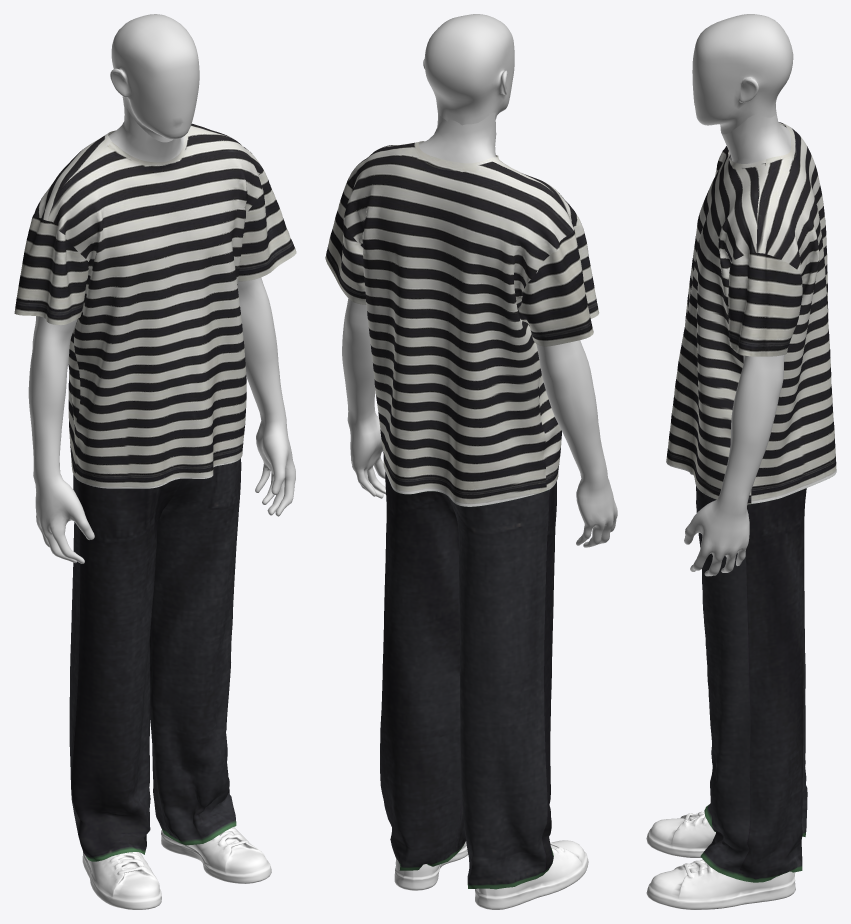
Rendered from zara_t_shirt.glb.
The picture shows the model from 3 angles, left to right: view 1: azimuth 30°, elevation 25°; view 2: azimuth 150°, elevation 25°; view 3: azimuth 270°, elevation 25°; orthographic projection. The views are drawn at different scales.
Visible parts, largest first — view 1: tshirt_3, body_3_0, shoes_r_Shape_2, shoes_l_Shape_1; view 2: tshirt_3, body_3_0, shoes_r_Shape_2, shoes_l_Shape_1; view 3: tshirt_3, body_3_0, shoes_l_Shape_1, shoes_r_Shape_2.
Part boxes in pixels (x1,y1,x2,y2): tshirt_3: [14, 123, 296, 861]; body_3_0: [28, 14, 295, 563]; shoes_r_Shape_2: [82, 852, 161, 909]; shoes_l_Shape_1: [161, 827, 271, 883]; tshirt_3: [325, 141, 599, 889]; body_3_0: [342, 14, 617, 547]; shoes_r_Shape_2: [475, 840, 588, 909]; shoes_l_Shape_1: [394, 841, 468, 890]; tshirt_3: [666, 122, 836, 882]; body_3_0: [684, 14, 793, 576]; shoes_l_Shape_1: [646, 859, 795, 909]; shoes_r_Shape_2: [646, 811, 715, 857].
Size of the model in its own units: 0.6357 by 1.9 by 0.3829.
3 materials, 1 textured.
